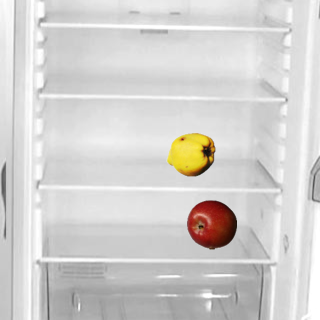Apple Braeburn: (186, 199, 236, 249)
Quince: (165, 129, 215, 179)
